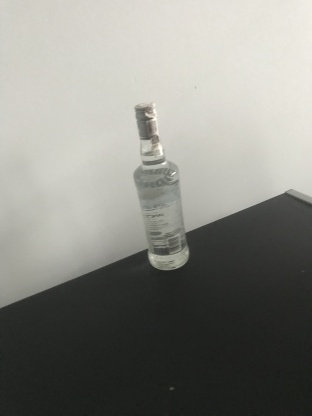nakretka: (133, 100, 159, 140)
